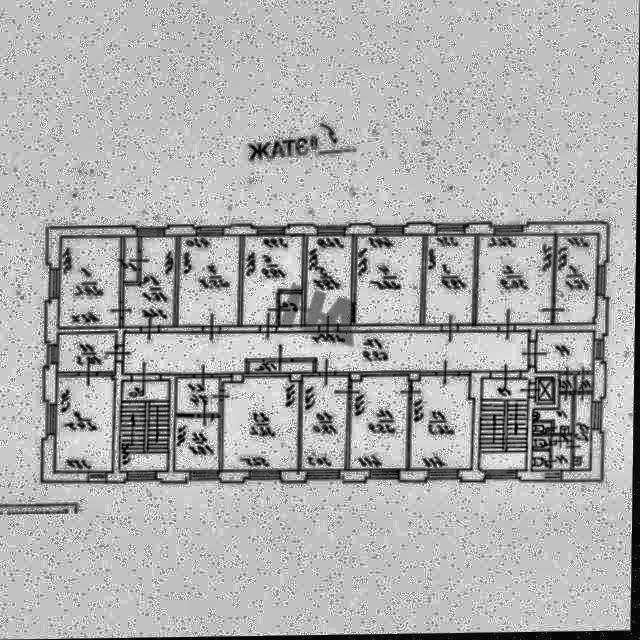room: (124, 332, 531, 374), (224, 376, 301, 471), (477, 236, 555, 326), (411, 376, 475, 473), (357, 237, 422, 326), (57, 375, 116, 473), (351, 376, 410, 471), (179, 236, 240, 327), (243, 236, 304, 327), (60, 237, 121, 328), (123, 236, 176, 329), (302, 377, 350, 471), (481, 380, 529, 473), (121, 381, 170, 472), (426, 237, 476, 326), (307, 236, 353, 325), (555, 235, 599, 326), (537, 334, 596, 374), (176, 418, 220, 471), (59, 333, 117, 373), (178, 379, 220, 414), (535, 398, 573, 435), (575, 397, 592, 472), (252, 363, 314, 374), (281, 295, 302, 326), (125, 237, 139, 282), (554, 437, 572, 471), (540, 380, 554, 402), (534, 453, 550, 470), (579, 375, 594, 393), (534, 438, 551, 450), (562, 377, 575, 392), (535, 424, 552, 435)
